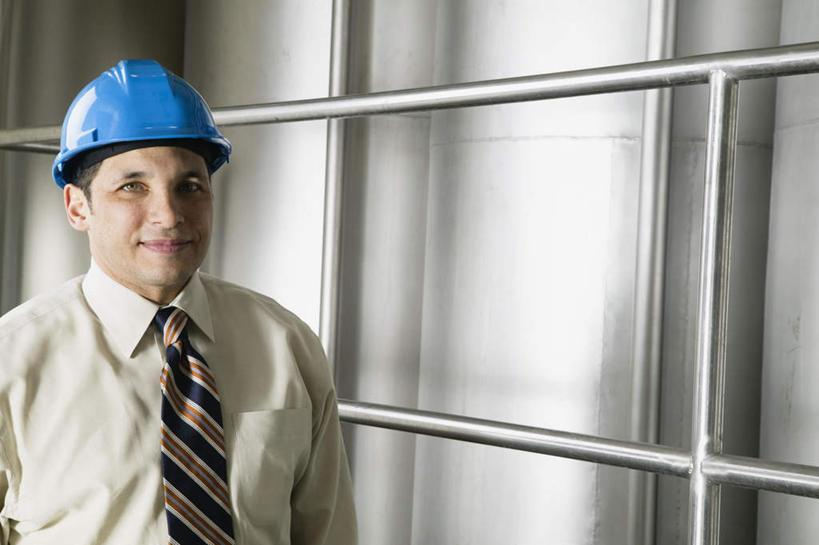helmet: (51, 56, 232, 194)
